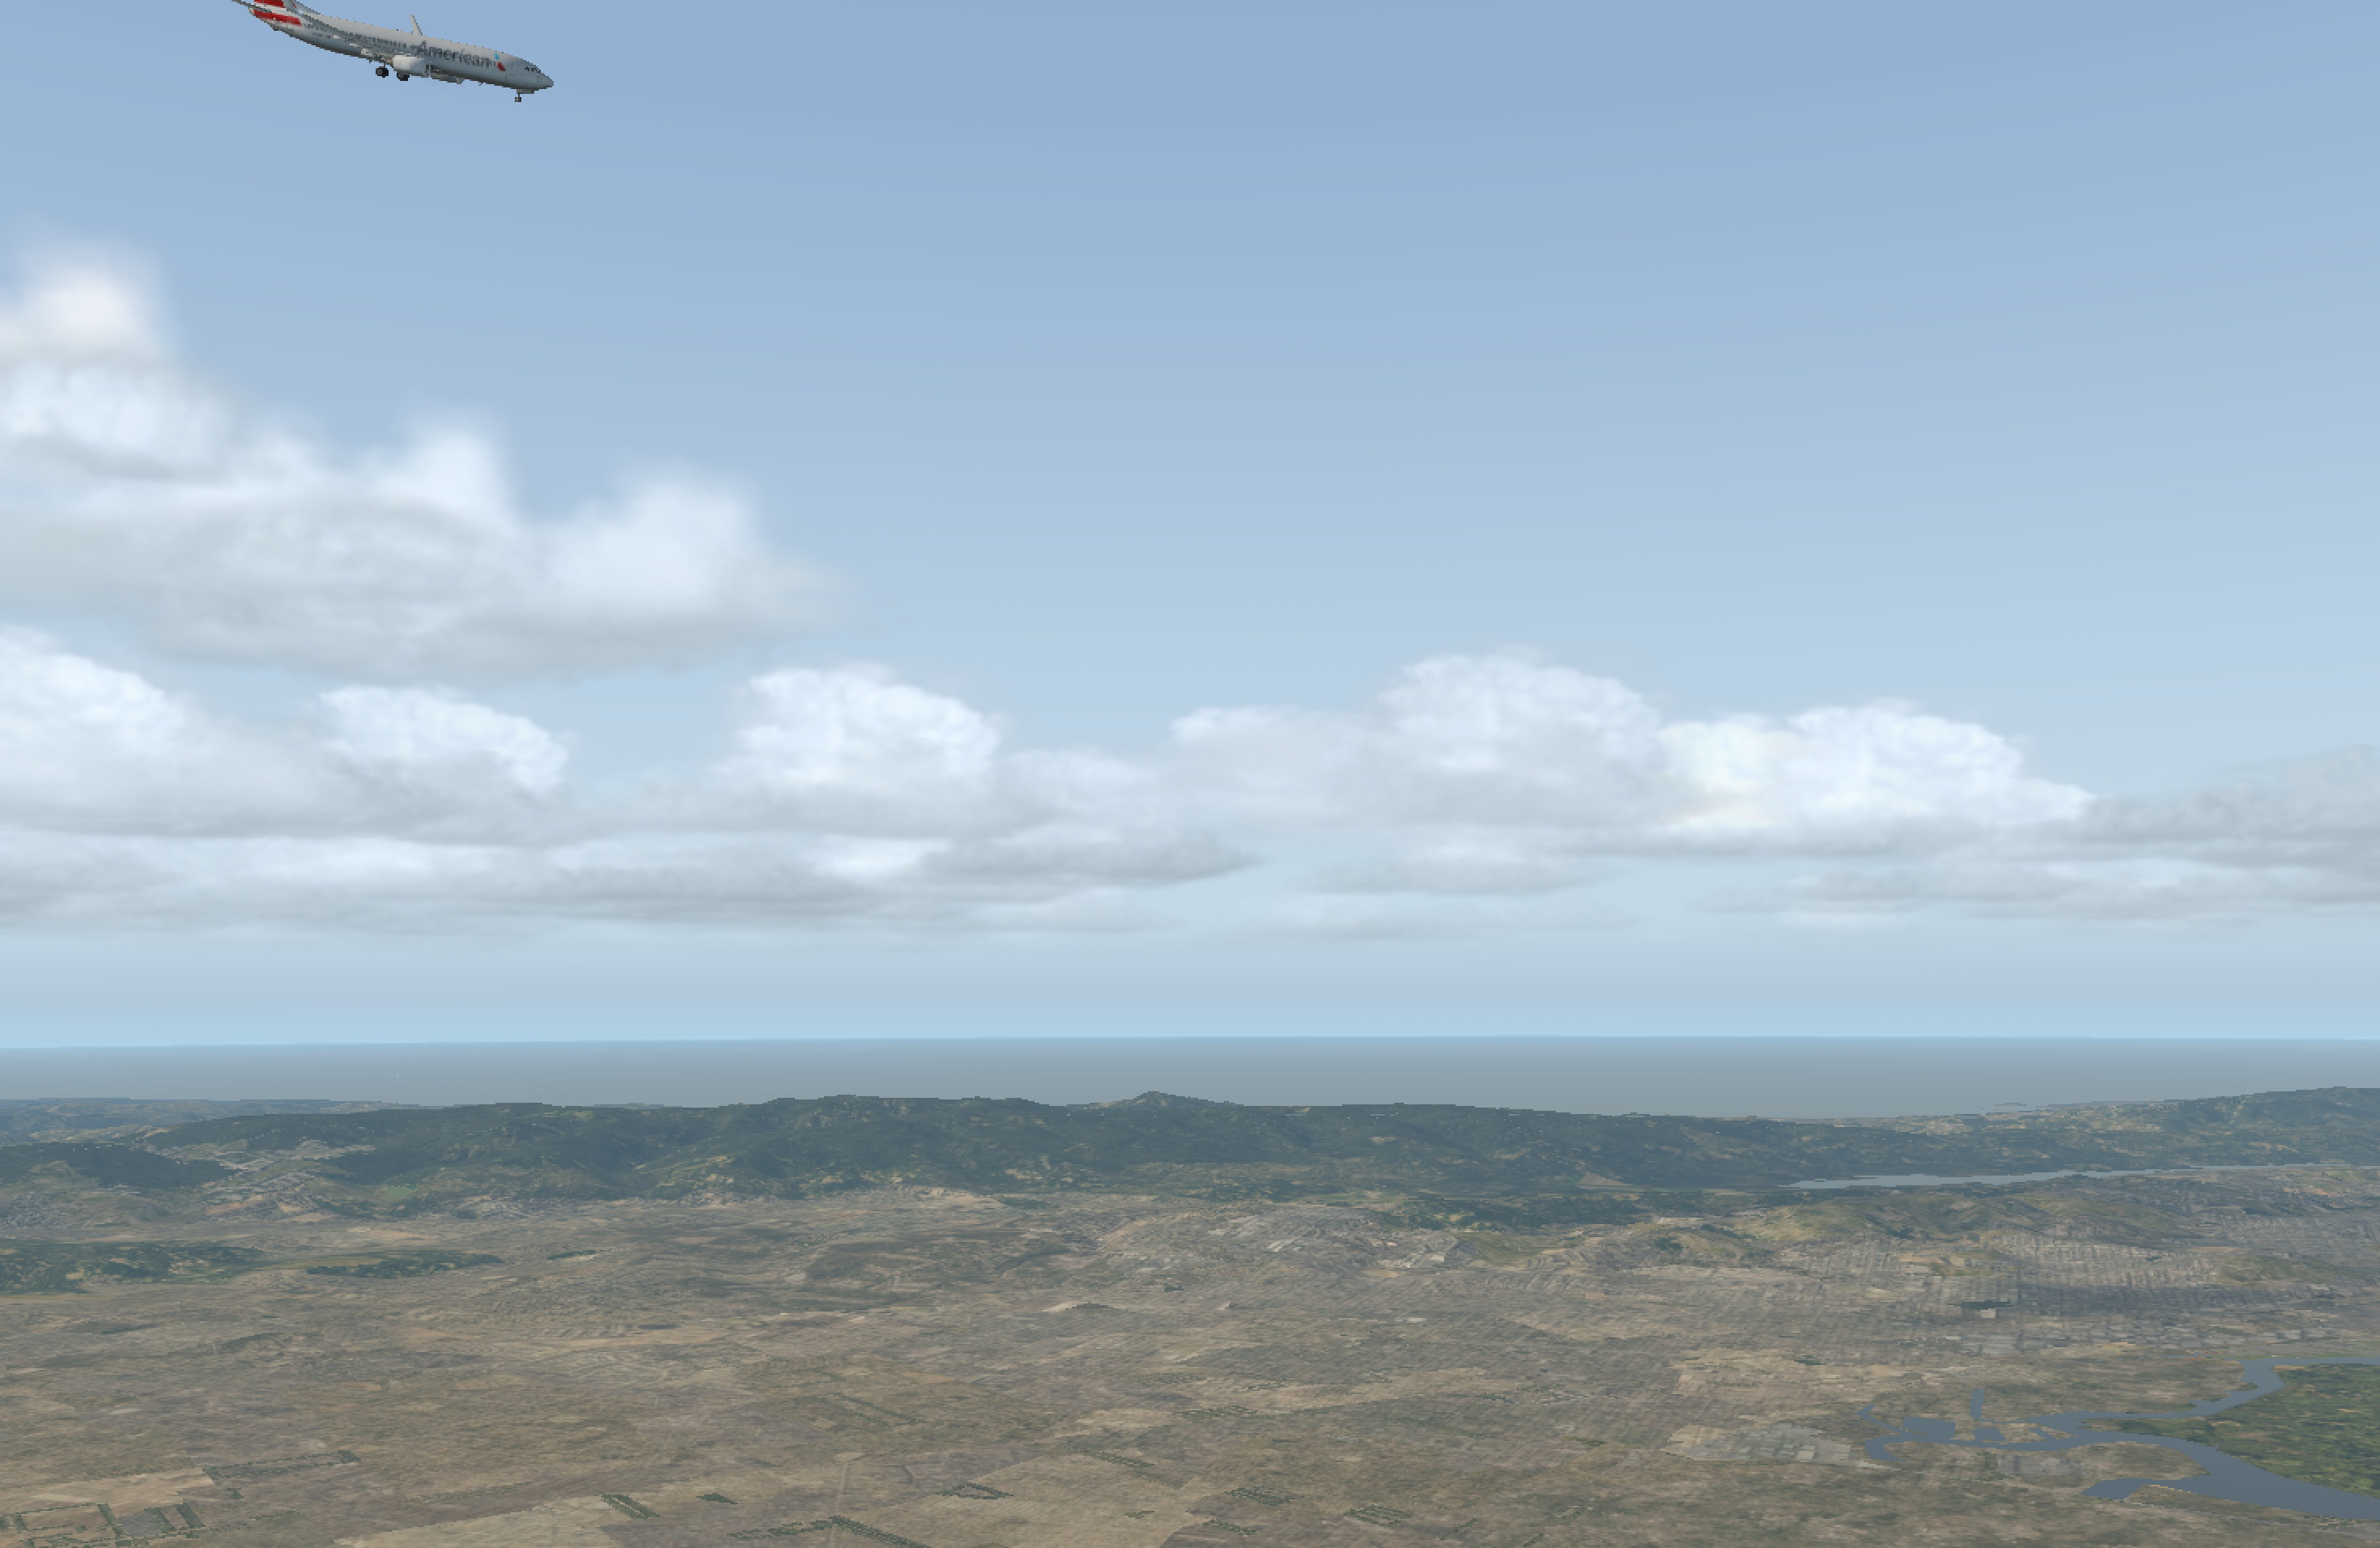aircraft: (262, 2, 550, 109)
